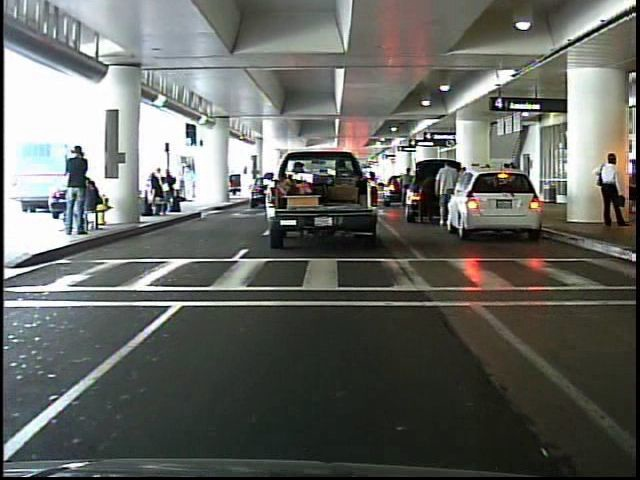person: (592, 146, 630, 233), (64, 139, 97, 237), (432, 159, 461, 231), (182, 162, 198, 205)
